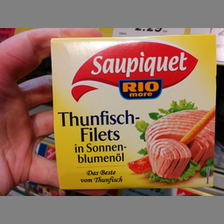fish: (49, 34, 217, 189)
